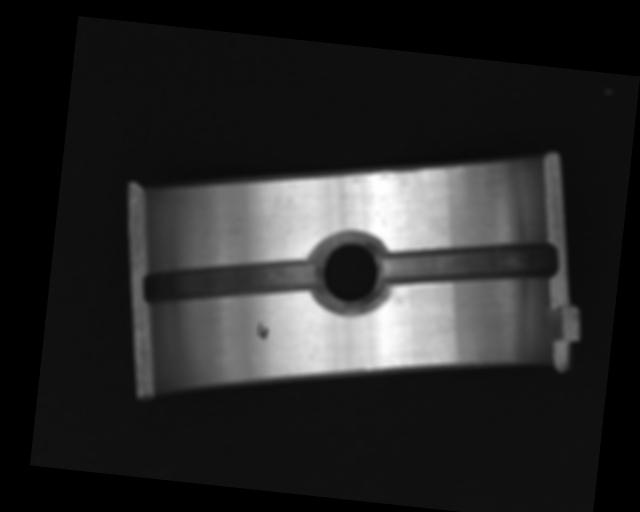blot: (255, 320, 269, 340)
gap: (377, 224, 559, 302), (143, 240, 318, 319)
hole: (309, 230, 387, 313)
